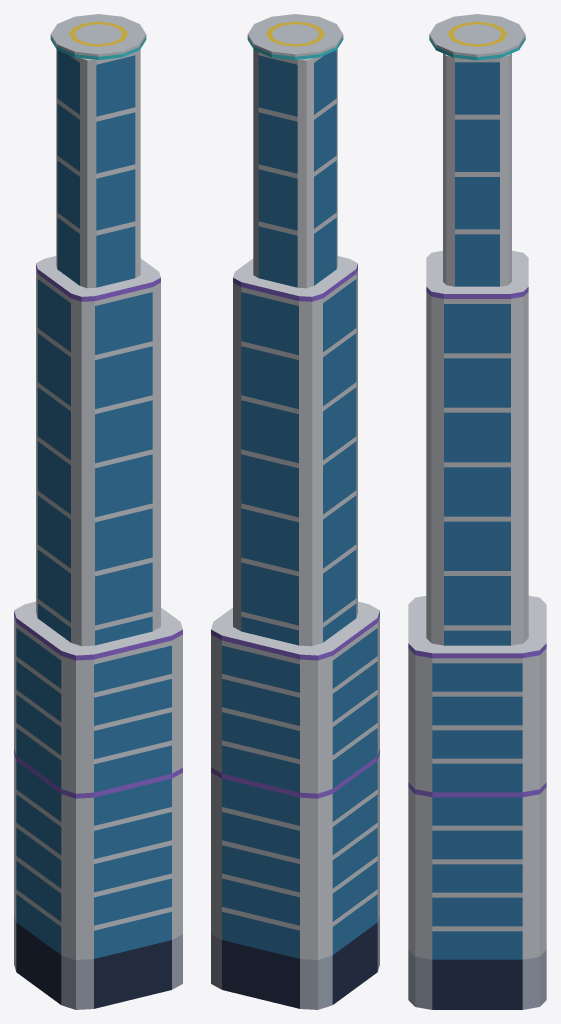
File: city-tower-2.glb
3 views of the same model, side by side, from view 1: azimuth 30°, elevation 25°; view 2: azimuth 150°, elevation 25°; view 3: azimuth 270°, elevation 25° (orthographic).
Parts seen in each view (by area): view 1: CityTower2; view 2: CityTower2; view 3: CityTower2.
Boxes of the visible parts, left/top/right/bottom form: CityTower2: left=14, top=14, right=182, bottom=1009; CityTower2: left=211, top=14, right=379, bottom=1009; CityTower2: left=408, top=14, right=546, bottom=1009.
Bounding box in the file's own units: 15 × 113 × 15.
